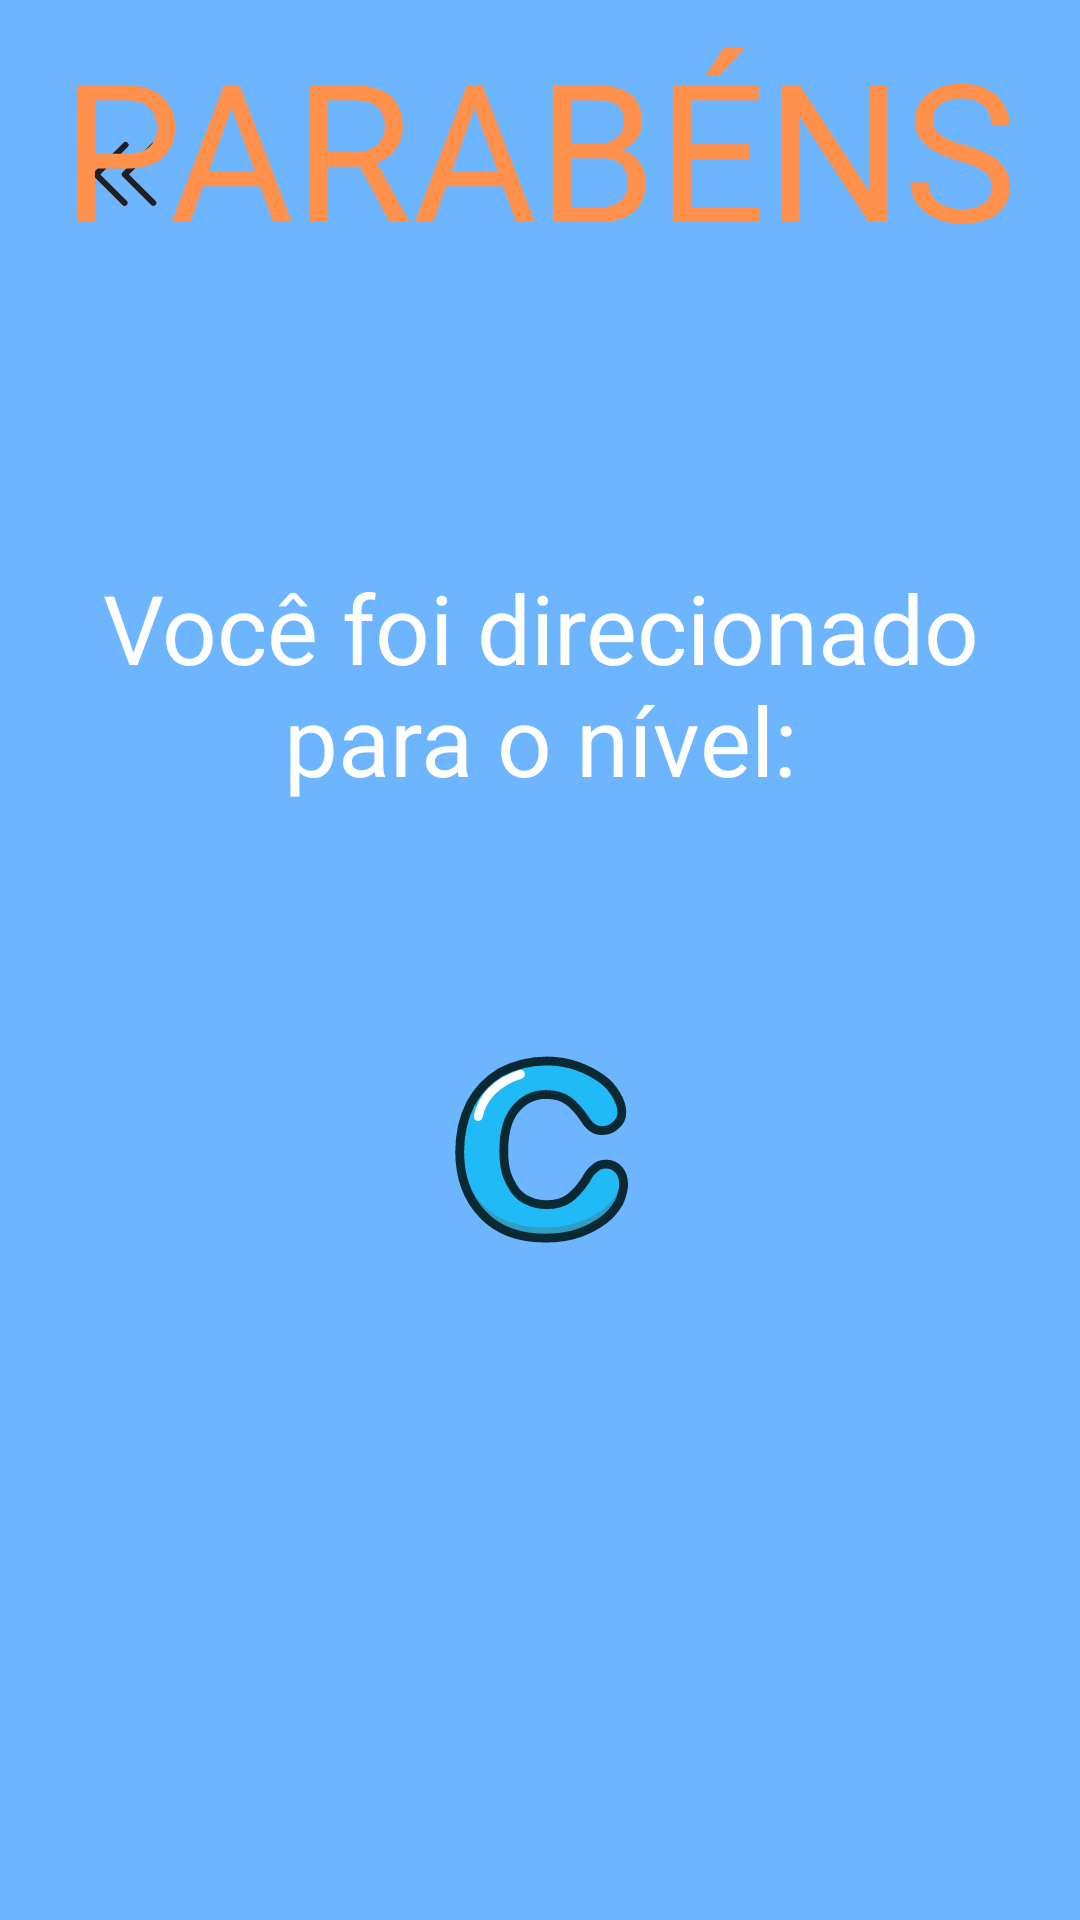

Icon click points for this 1080*1920 phone screenshot, format [x,y]:
nivelc: [541,1149]
